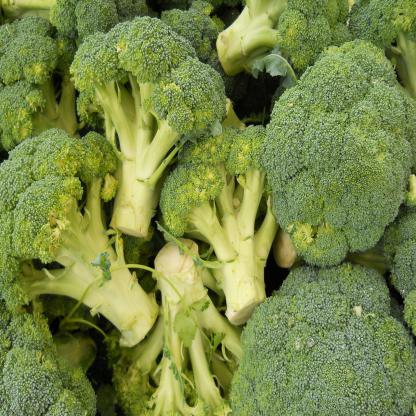broccoli: (69, 20, 226, 244), (269, 37, 415, 270), (4, 131, 151, 341), (237, 274, 415, 415), (114, 245, 242, 416), (160, 128, 270, 318), (0, 0, 142, 135), (0, 300, 96, 416), (218, 0, 349, 79)
